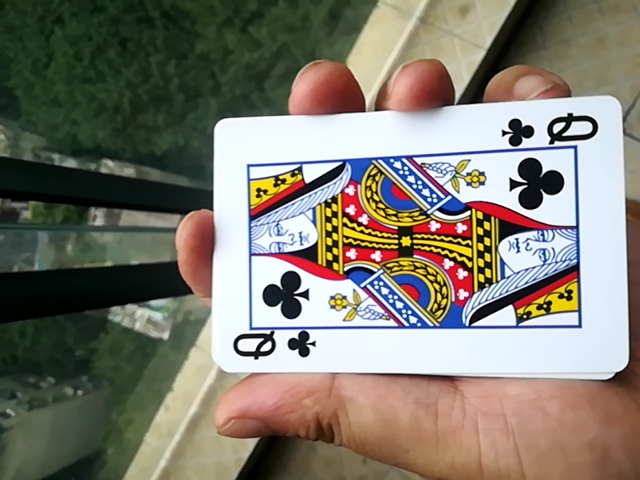mh q: (187, 98, 626, 385)
